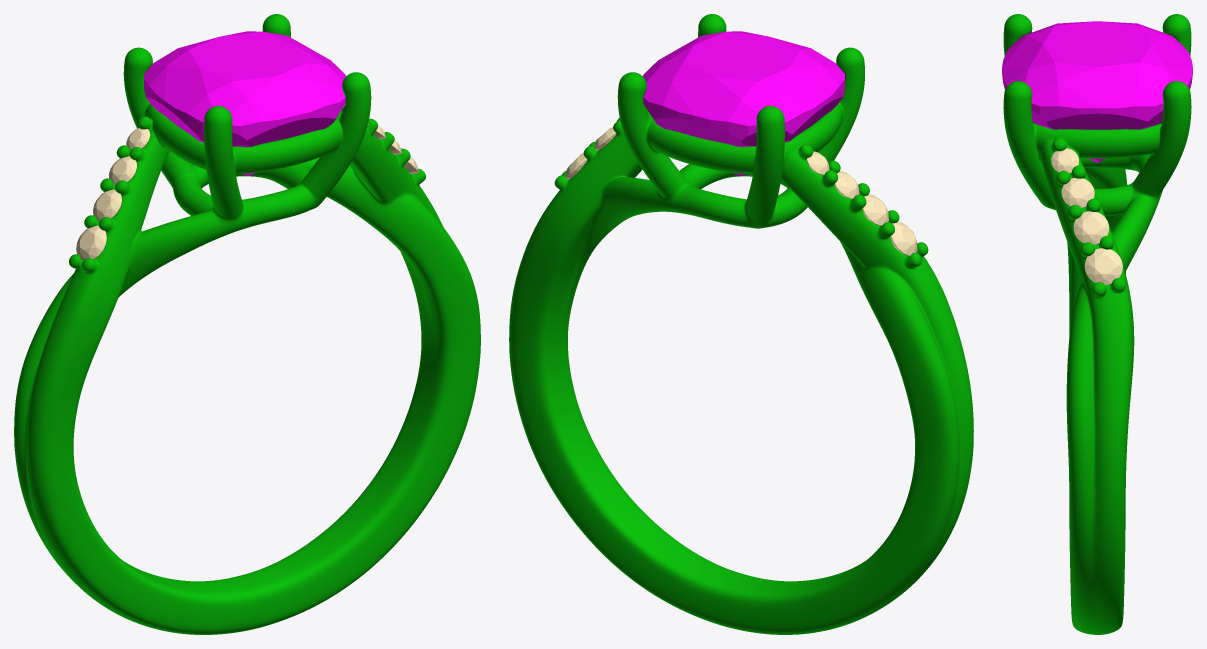
Rendered from BE1AS8PD08_CU_200ct_RENDER.glb.
3 renders of one model, left to right at view 1: azimuth 30°, elevation 25°; view 2: azimuth 150°, elevation 25°; view 3: azimuth 270°, elevation 25°, orthographic.
Visible parts, largest first — view 1: Metal 01, CS_Diamond_Cushion, Diamond_Round_Gem_SH, Diamond_Round_Gem_SH.001; view 2: Metal 01, CS_Diamond_Cushion, Diamond_Round_Gem_SH; view 3: Metal 01, CS_Diamond_Cushion, Diamond_Round_Gem_SH.007, Diamond_Round_Gem_SH.006, Diamond_Round_Gem_SH.005, Diamond_Round_Gem_SH.004.
Boxes of the visible parts, box(x1,y1,x2,y2) form: Metal 01: box(14, 14, 480, 634); CS_Diamond_Cushion: box(144, 31, 346, 175); Diamond_Round_Gem_SH: box(76, 225, 106, 260); Diamond_Round_Gem_SH.001: box(93, 189, 121, 221); Metal 01: box(509, 14, 973, 634); CS_Diamond_Cushion: box(643, 31, 844, 175); Diamond_Round_Gem_SH: box(890, 221, 917, 255); Metal 01: box(1003, 14, 1191, 634); CS_Diamond_Cushion: box(1002, 21, 1192, 162); Diamond_Round_Gem_SH.007: box(1084, 248, 1122, 284); Diamond_Round_Gem_SH.006: box(1073, 211, 1109, 244); Diamond_Round_Gem_SH.005: box(1061, 178, 1094, 207); Diamond_Round_Gem_SH.004: box(1051, 148, 1078, 173).
Size of the model in its own units: 20.27 by 24.55 by 7.5.
